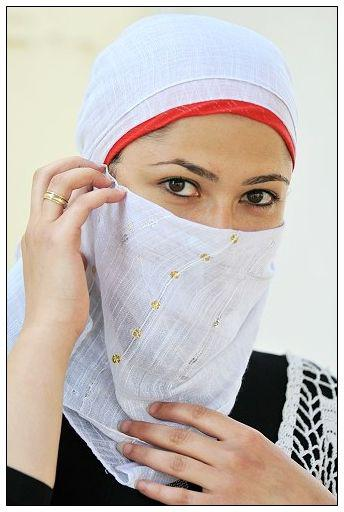OK: (135, 145, 297, 307)
